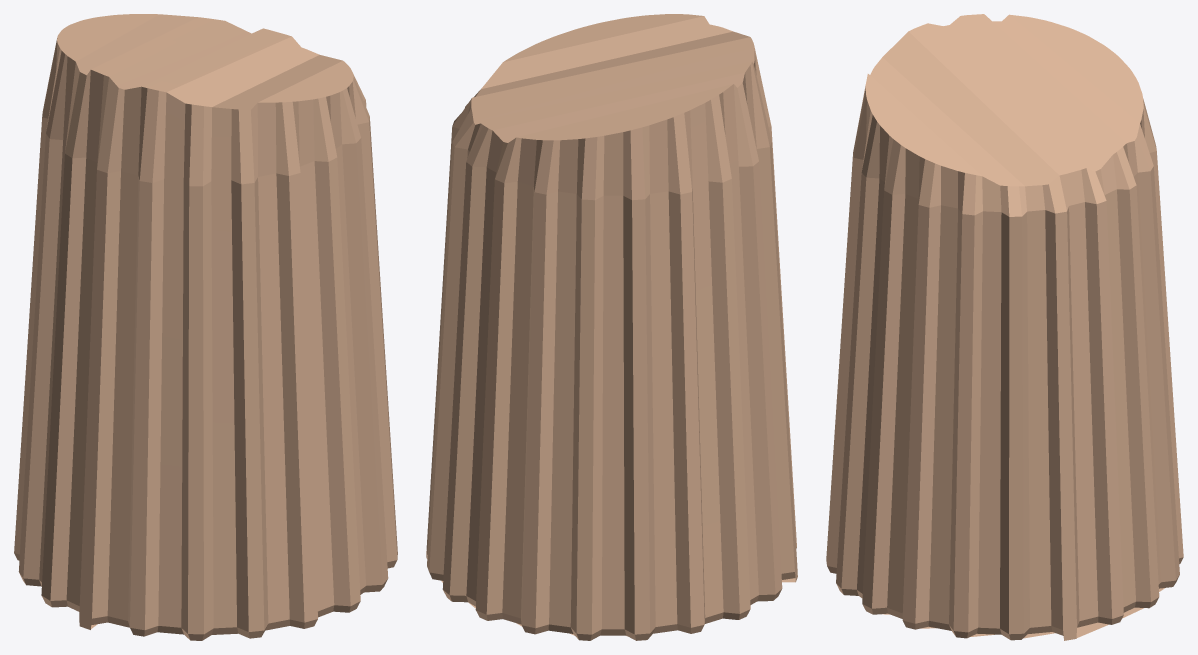
Rendered from smolPillar.fbx.
3 renders of one model, left to right at view 1: azimuth 30°, elevation 25°; view 2: azimuth 150°, elevation 25°; view 3: azimuth 270°, elevation 25°, orthographic. The views are drawn at different scales.
Visible parts, largest first — view 1: pillar; view 2: pillar; view 3: pillar.
Part boxes in pixels (x1=…): pillar: x1=14, y1=14, x2=397, y2=640; pillar: x1=426, y1=14, x2=797, y2=640; pillar: x1=826, y1=14, x2=1183, y2=640.
Size of the model in its own units: 0.6617 by 1.01 by 0.6592.
